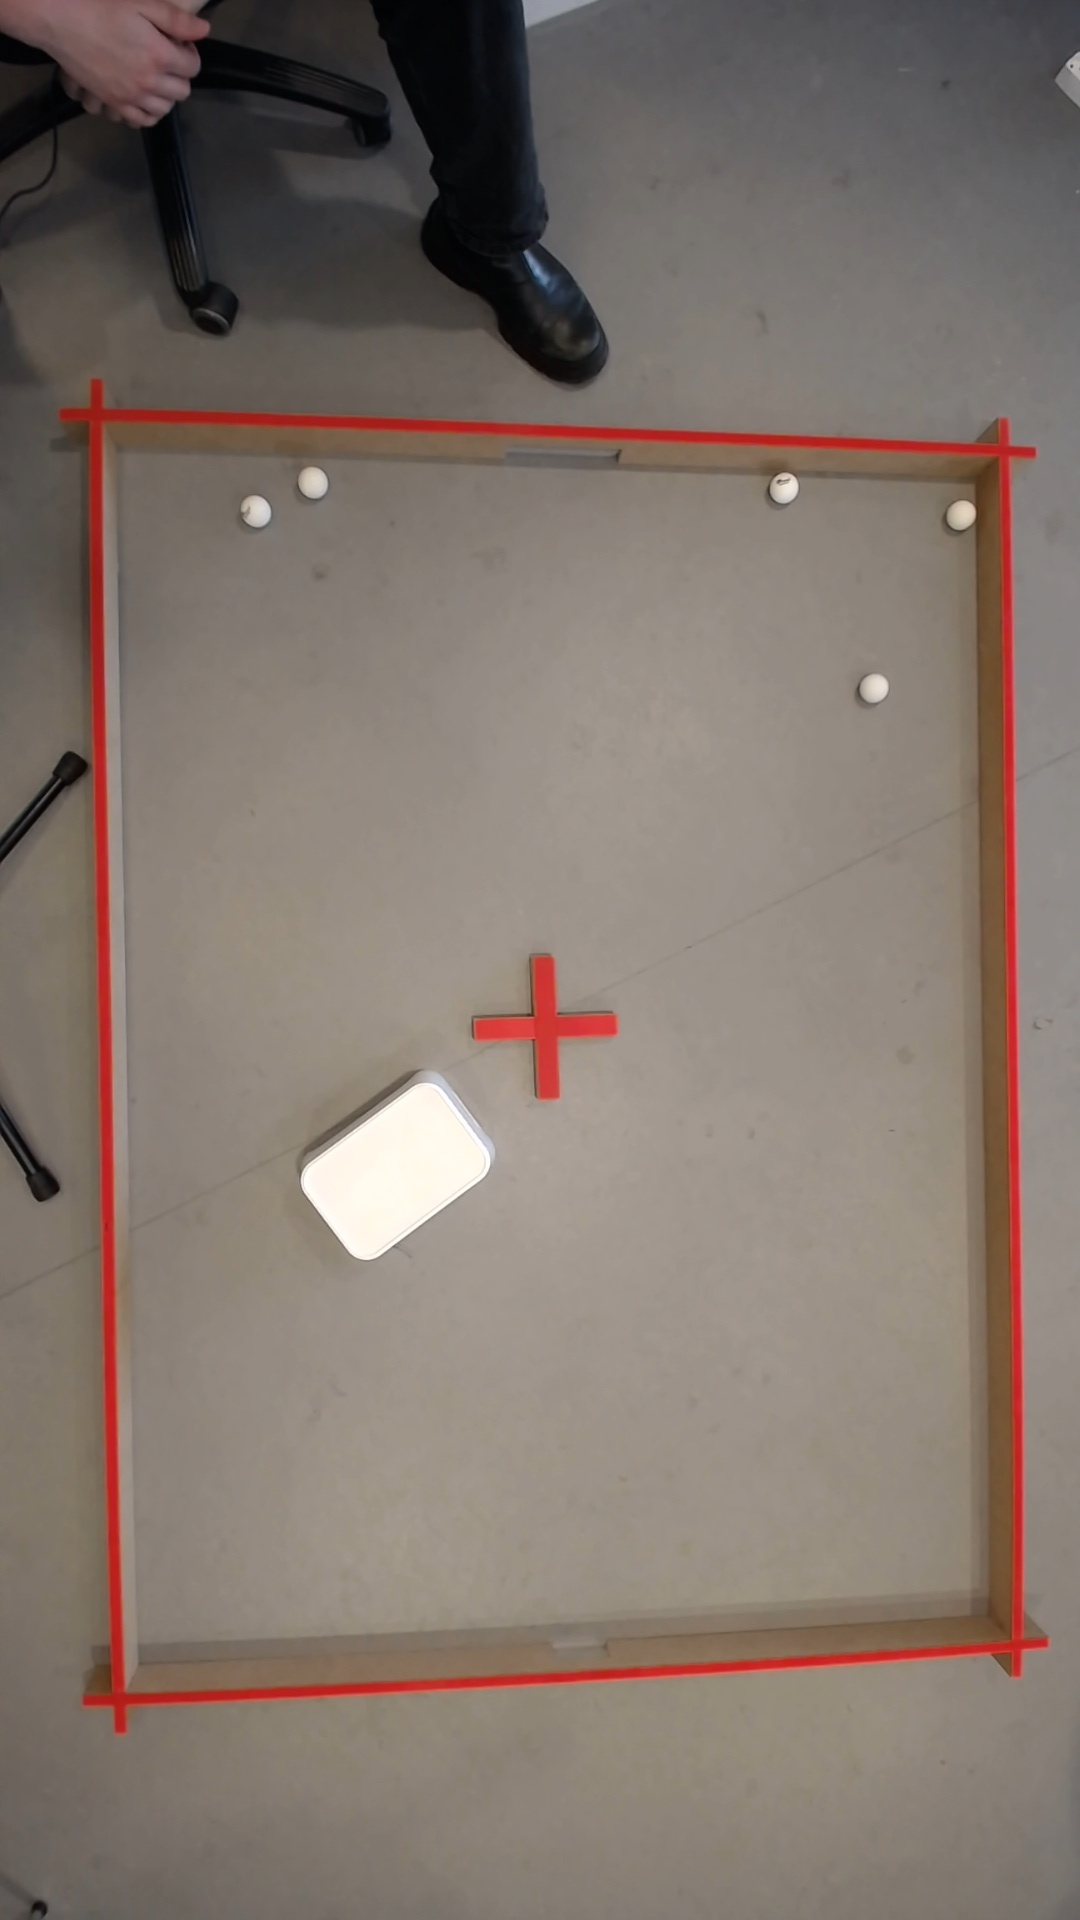balls: (290, 1067, 505, 1269), (770, 469, 803, 505), (862, 671, 891, 702), (249, 496, 270, 524), (303, 469, 326, 493)
car: (949, 498, 977, 526)
